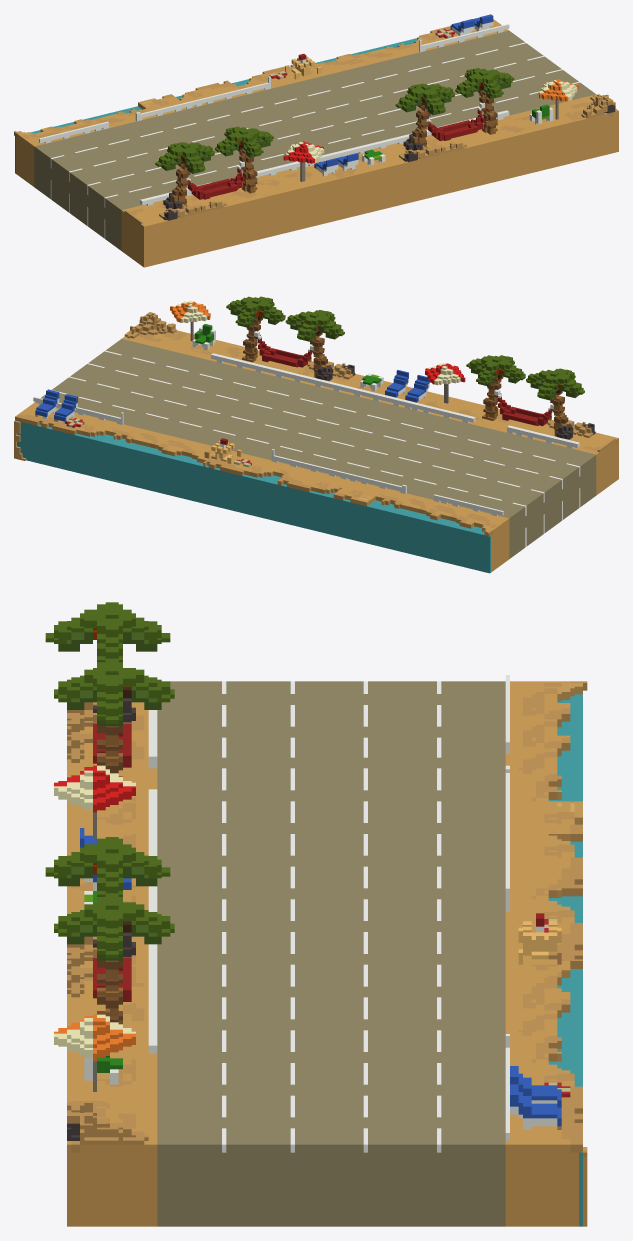
File: Mapa_Playa_1.obj
The picture shows the model from 3 angles, top to bottom: view 1: azimuth 30°, elevation 25°; view 2: azimuth 150°, elevation 25°; view 3: azimuth 270°, elevation 25°; orthographic projection. The views are drawn at different scales.
Bounding box in the file's own units: 25.5 × 5.2 × 12.6.
1 material, 1 textured.
